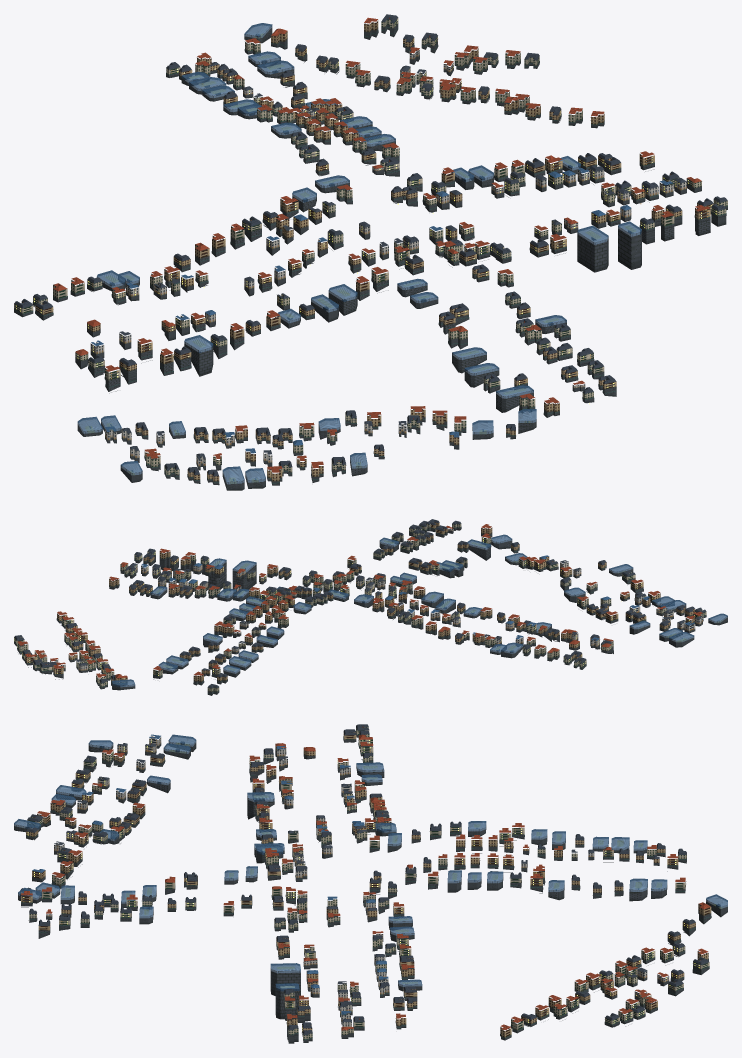
The model's file is osm_buildings_T_W02_N02_Q1.glb.
3 renders of one model, top to bottom at view 1: azimuth 30°, elevation 25°; view 2: azimuth 150°, elevation 25°; view 3: azimuth 270°, elevation 25°, orthographic. The views are drawn at different scales.
Visible parts, largest first — view 1: OSM_T_W02_N02_Q1_foundation, OSM_T_W02_N02_Q1_greenhouse_blend, OSM_T_W02_N02_Q1_wall_french_ochre, OSM_T_W02_N02_Q1_wall_cream_stucco, OSM_T_W02_N02_Q1_roof_mansard_slate, OSM_T_W02_N02_Q1_roof_terracotta, OSM_T_W02_N02_Q1_roof_mansard_deck, OSM_T_W02_N02_Q1_roof_mint_metal, OSM_T_W02_N02_Q1_wall_warm_white, OSM_T_W02_N02_Q1_trim_cornice, OSM_T_W02_N02_Q1_window_emissive_warm, OSM_T_W02_N02_Q1_wall_pastel_sand (+2 smaller); view 2: OSM_T_W02_N02_Q1_foundation, OSM_T_W02_N02_Q1_greenhouse_blend, OSM_T_W02_N02_Q1_wall_french_ochre, OSM_T_W02_N02_Q1_wall_cream_stucco, OSM_T_W02_N02_Q1_roof_mansard_slate, OSM_T_W02_N02_Q1_roof_terracotta, OSM_T_W02_N02_Q1_roof_mansard_deck, OSM_T_W02_N02_Q1_wall_warm_white, OSM_T_W02_N02_Q1_roof_mint_metal, OSM_T_W02_N02_Q1_wall_pastel_sand, OSM_T_W02_N02_Q1_window_emissive_warm, OSM_T_W02_N02_Q1_trim_cornice (+2 smaller); view 3: OSM_T_W02_N02_Q1_foundation, OSM_T_W02_N02_Q1_greenhouse_blend, OSM_T_W02_N02_Q1_wall_cream_stucco, OSM_T_W02_N02_Q1_wall_french_ochre, OSM_T_W02_N02_Q1_roof_mansard_slate, OSM_T_W02_N02_Q1_roof_terracotta, OSM_T_W02_N02_Q1_roof_mansard_deck, OSM_T_W02_N02_Q1_wall_warm_white, OSM_T_W02_N02_Q1_trim_cornice, OSM_T_W02_N02_Q1_roof_mint_metal, OSM_T_W02_N02_Q1_wall_pastel_sand, OSM_T_W02_N02_Q1_window_emissive_warm (+2 smaller).
Boxes of the visible parts, left/top/right/bottom form: OSM_T_W02_N02_Q1_foundation: left=14, top=23, right=727, bottom=490; OSM_T_W02_N02_Q1_greenhouse_blend: left=77, top=23, right=641, bottom=484; OSM_T_W02_N02_Q1_wall_french_ochre: left=35, top=21, right=713, bottom=481; OSM_T_W02_N02_Q1_wall_cream_stucco: left=14, top=18, right=727, bottom=475; OSM_T_W02_N02_Q1_roof_mansard_slate: left=14, top=16, right=727, bottom=476; OSM_T_W02_N02_Q1_roof_terracotta: left=23, top=17, right=710, bottom=472; OSM_T_W02_N02_Q1_roof_mansard_deck: left=16, top=14, right=725, bottom=483; OSM_T_W02_N02_Q1_roof_mint_metal: left=14, top=27, right=727, bottom=483; OSM_T_W02_N02_Q1_wall_warm_white: left=90, top=49, right=686, bottom=466; OSM_T_W02_N02_Q1_trim_cornice: left=14, top=19, right=727, bottom=478; OSM_T_W02_N02_Q1_window_emissive_warm: left=16, top=23, right=716, bottom=483; OSM_T_W02_N02_Q1_wall_pastel_sand: left=121, top=109, right=673, bottom=458; OSM_T_W02_N02_Q1_foundation: left=14, top=526, right=727, bottom=695; OSM_T_W02_N02_Q1_greenhouse_blend: left=112, top=534, right=727, bottom=687; OSM_T_W02_N02_Q1_wall_french_ochre: left=25, top=522, right=694, bottom=682; OSM_T_W02_N02_Q1_wall_cream_stucco: left=14, top=524, right=706, bottom=691; OSM_T_W02_N02_Q1_roof_mansard_slate: left=14, top=520, right=706, bottom=688; OSM_T_W02_N02_Q1_roof_terracotta: left=17, top=523, right=702, bottom=678; OSM_T_W02_N02_Q1_roof_mansard_deck: left=15, top=519, right=719, bottom=686; OSM_T_W02_N02_Q1_wall_warm_white: left=50, top=561, right=695, bottom=670; OSM_T_W02_N02_Q1_roof_mint_metal: left=17, top=527, right=705, bottom=693; OSM_T_W02_N02_Q1_wall_pastel_sand: left=141, top=528, right=702, bottom=643; OSM_T_W02_N02_Q1_window_emissive_warm: left=29, top=539, right=720, bottom=675; OSM_T_W02_N02_Q1_trim_cornice: left=17, top=522, right=701, bottom=688; OSM_T_W02_N02_Q1_foundation: left=14, top=731, right=727, bottom=1043; OSM_T_W02_N02_Q1_greenhouse_blend: left=14, top=734, right=727, bottom=991; OSM_T_W02_N02_Q1_wall_cream_stucco: left=27, top=727, right=709, bottom=1039; OSM_T_W02_N02_Q1_wall_french_ochre: left=20, top=732, right=711, bottom=1037; OSM_T_W02_N02_Q1_roof_mansard_slate: left=20, top=724, right=708, bottom=1035; OSM_T_W02_N02_Q1_roof_terracotta: left=21, top=726, right=710, bottom=1030; OSM_T_W02_N02_Q1_roof_mansard_deck: left=16, top=724, right=715, bottom=1032; OSM_T_W02_N02_Q1_wall_warm_white: left=54, top=736, right=669, bottom=1026; OSM_T_W02_N02_Q1_trim_cornice: left=21, top=727, right=710, bottom=1035; OSM_T_W02_N02_Q1_roof_mint_metal: left=21, top=734, right=711, bottom=1039; OSM_T_W02_N02_Q1_wall_pastel_sand: left=46, top=745, right=544, bottom=1021; OSM_T_W02_N02_Q1_window_emissive_warm: left=23, top=740, right=721, bottom=1028.
Bounding box in the file's own units: 994 × 153 × 1001.
16 materials, 16 textured.
